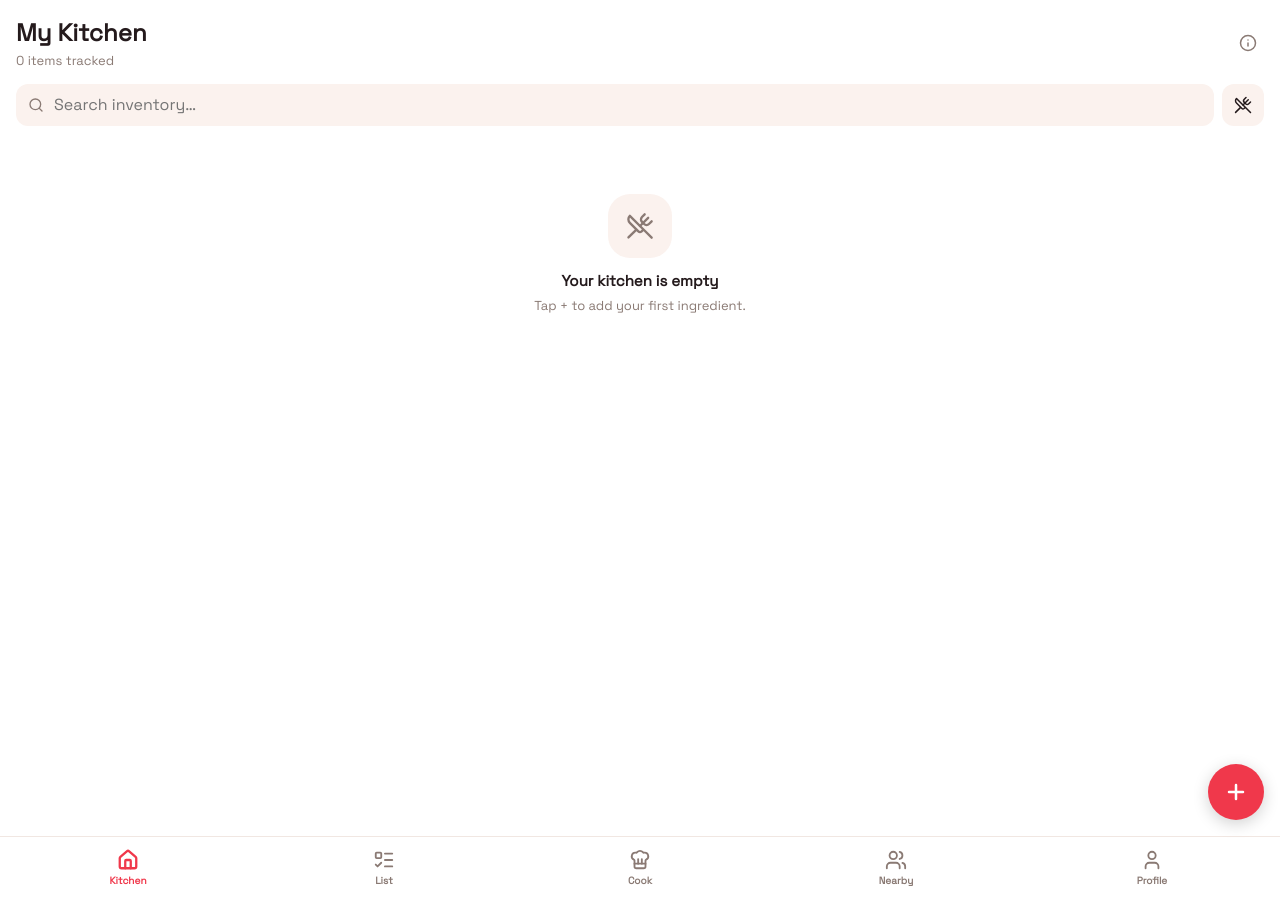
Test: App smoke › Nearby tab shows the sign-in prompt in local mode (no communities, no map)
Expected: the heading "My Kitchen" is shown, [16,16,147,50]
Click the button "Nearby" at coordinates (896, 868), box [768,845,1024,892]
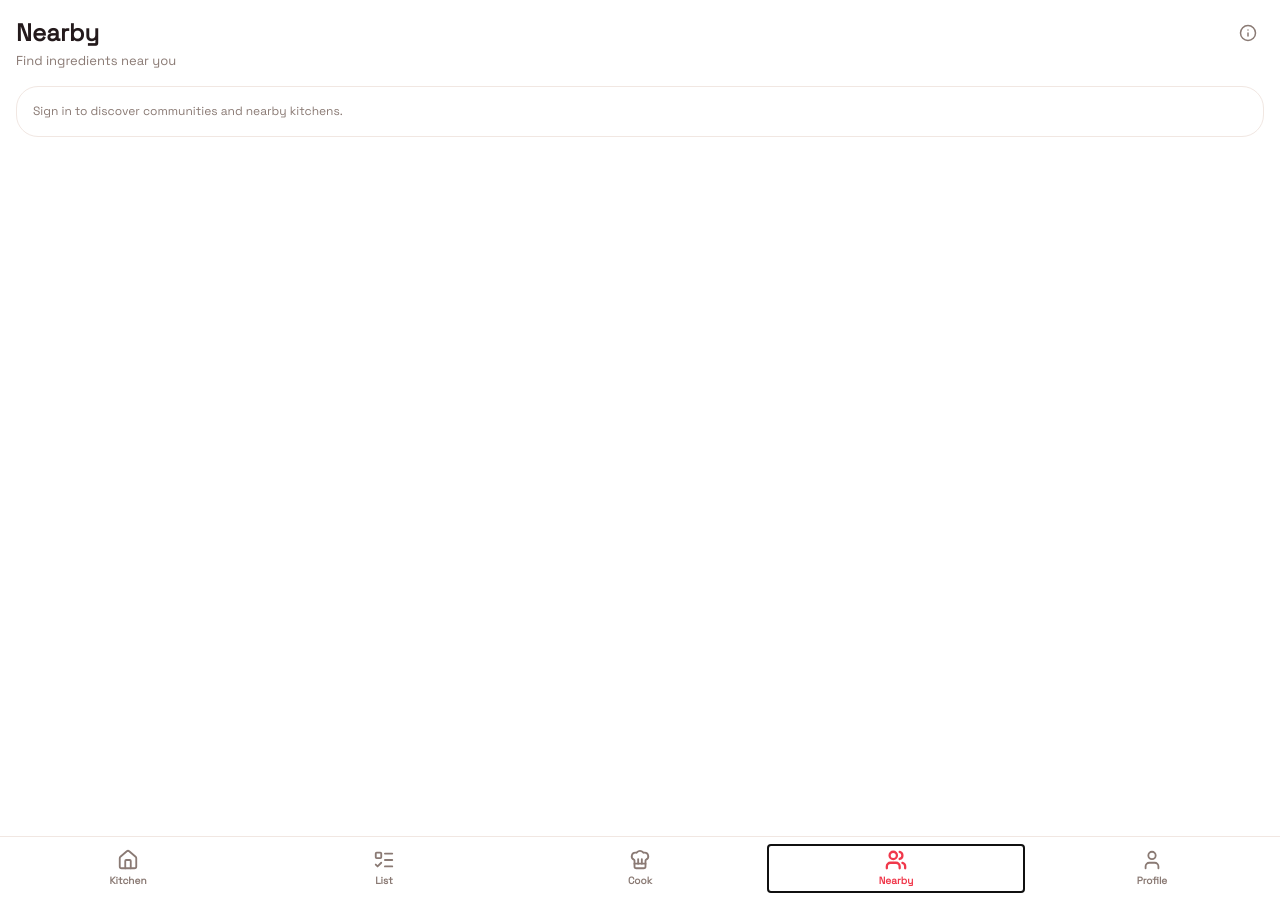
Now the text "Sign in to discover communities and nearby kitchens." is shown, box [33,103,343,119]
